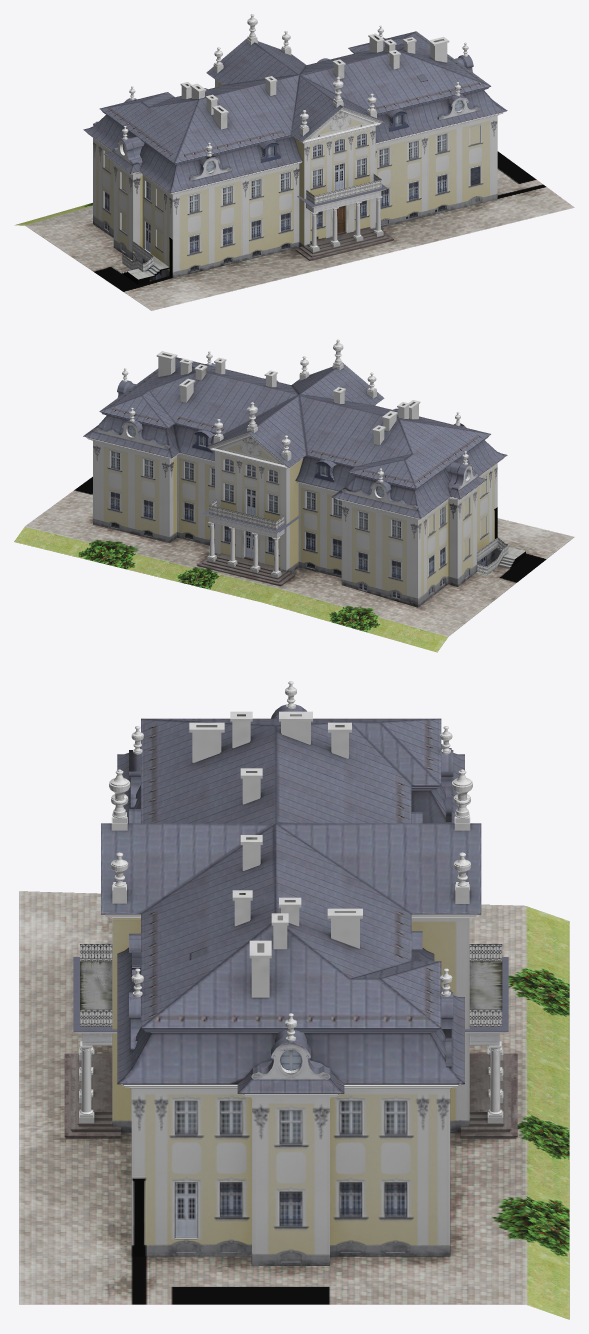
Rendered from reproduction_of_metropolitan_palace.glb.
3 views of the same model, one above another, from view 1: azimuth 30°, elevation 25°; view 2: azimuth 150°, elevation 25°; view 3: azimuth 270°, elevation 25° (orthographic). The views are drawn at different scales.
Visible parts, largest first — view 1: Object_3; view 2: Object_3; view 3: Object_3.
Part boxes in pixels (left/top/right/bottom): Object_3: left=14, top=14, right=574, bottom=310; Object_3: left=14, top=339, right=574, bottom=652; Object_3: left=19, top=681, right=569, bottom=1319.
Bounding box in the file's own units: 54.04 × 22.15 × 30.41.
Materials: 1 (1 with a texture image).
